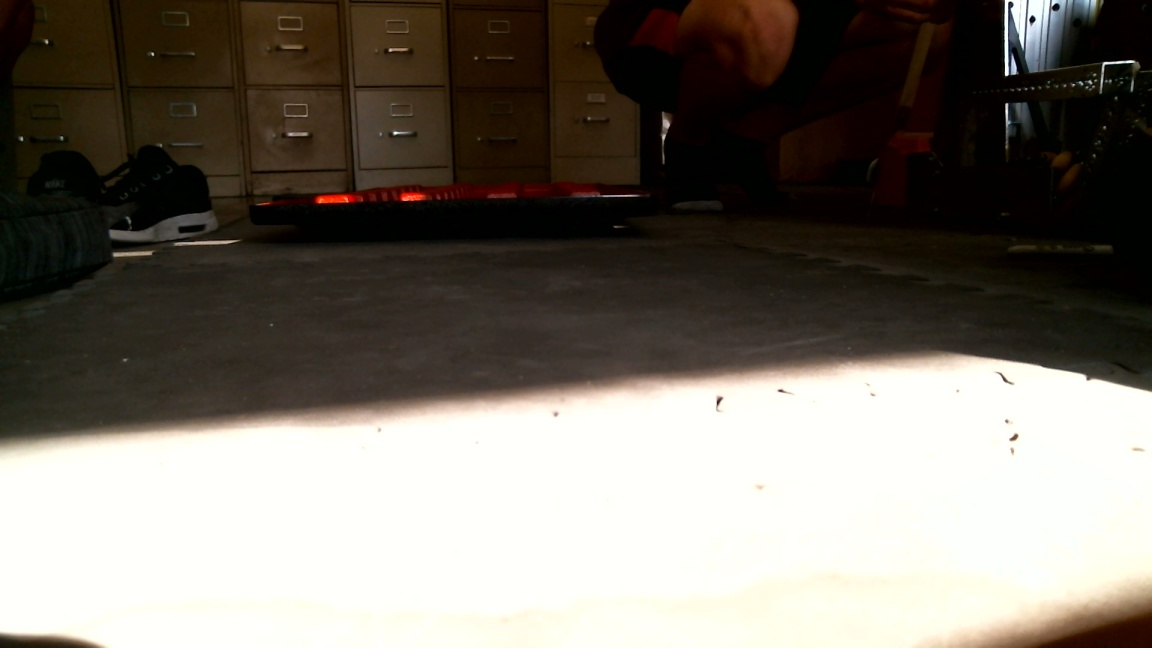red_foundation: (246, 179, 672, 265)
